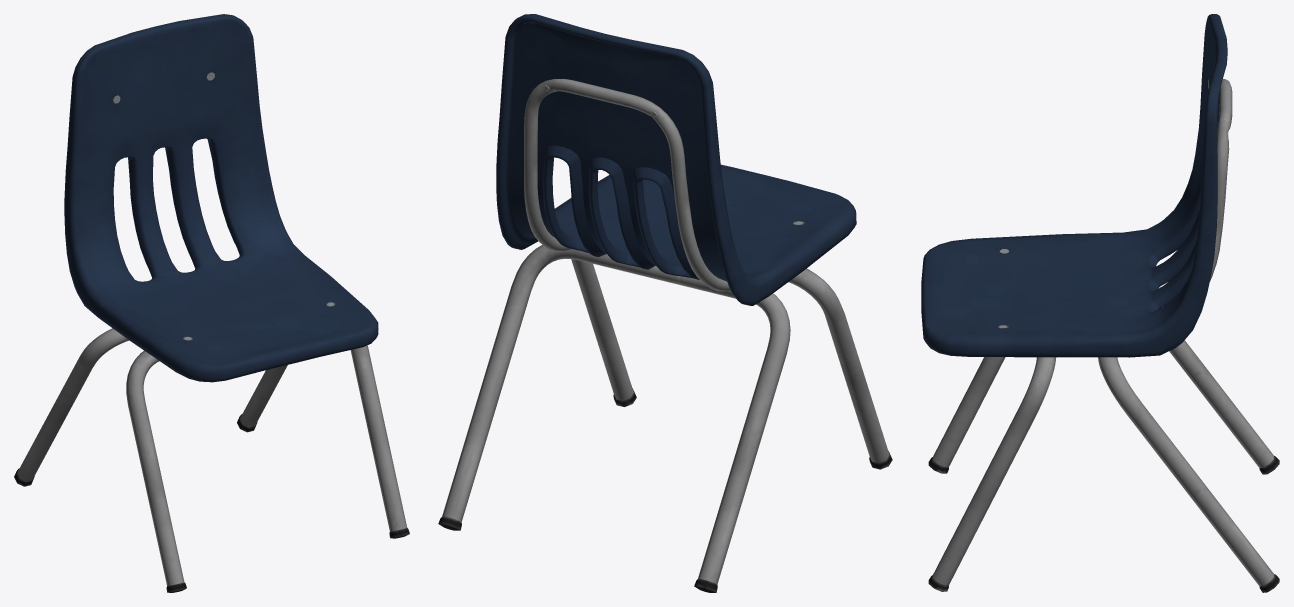
Rendered from SchoolChair_01.optimized.glb.
3 renders of one model, left to right at view 1: azimuth 30°, elevation 25°; view 2: azimuth 150°, elevation 25°; view 3: azimuth 270°, elevation 25°, orthographic. The views are drawn at different scales.
Visible parts, largest first — view 1: SchoolChair_01; view 2: SchoolChair_01; view 3: SchoolChair_01.
Boxes of the visible parts, box(x1,y1,x2,y2) form: SchoolChair_01: box(14, 14, 409, 592); SchoolChair_01: box(438, 14, 892, 592); SchoolChair_01: box(921, 14, 1279, 592).
Bounding box in the file's own units: 0.5659 × 1.01 × 0.6753.
Materials: 1 (1 with a texture image).
